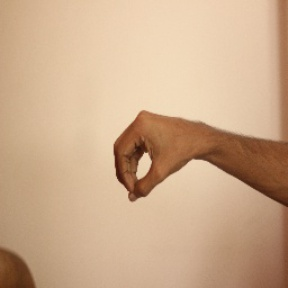O: (112, 107, 198, 206)
